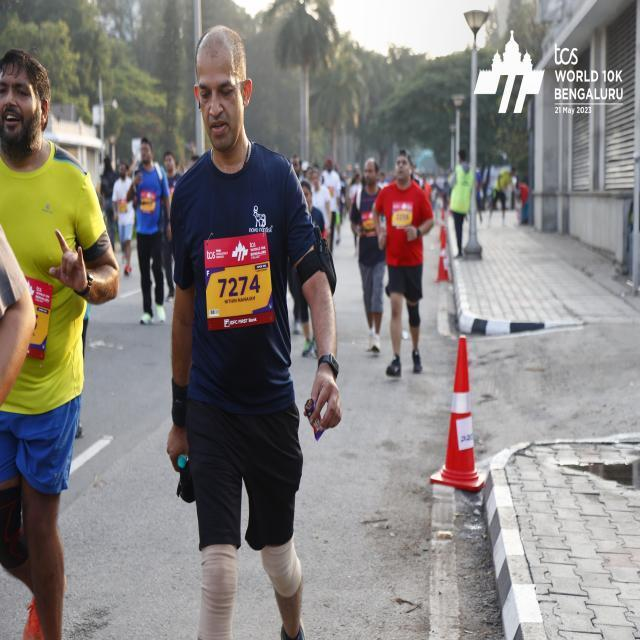dorsal: (202, 232, 280, 333)
